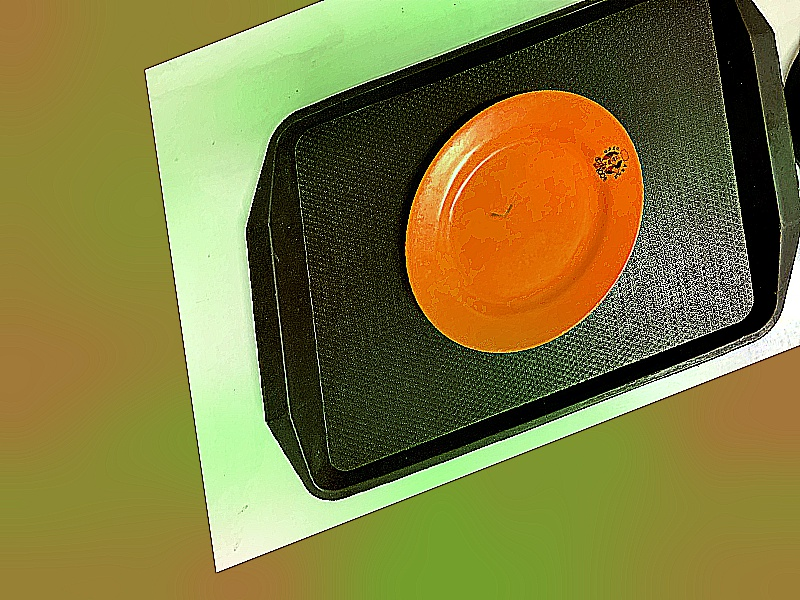dish10: (384, 47, 664, 396)
